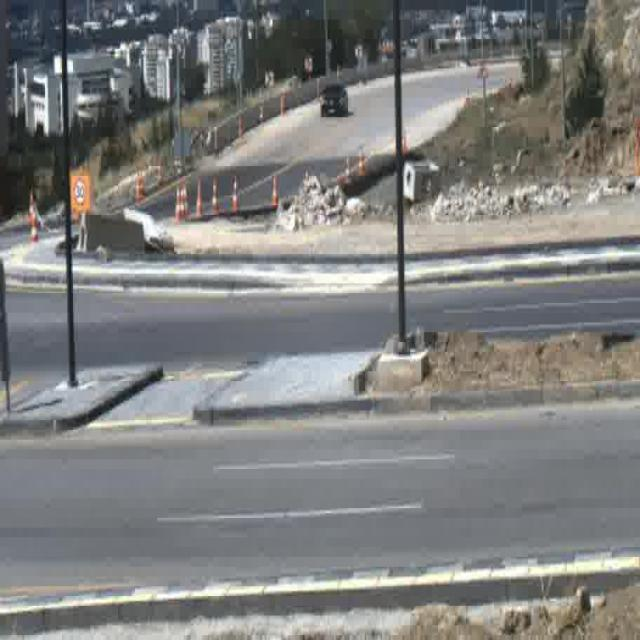Car: (320, 84, 348, 116)
